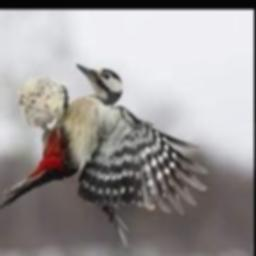Woodpecker: (0, 63, 208, 245)
